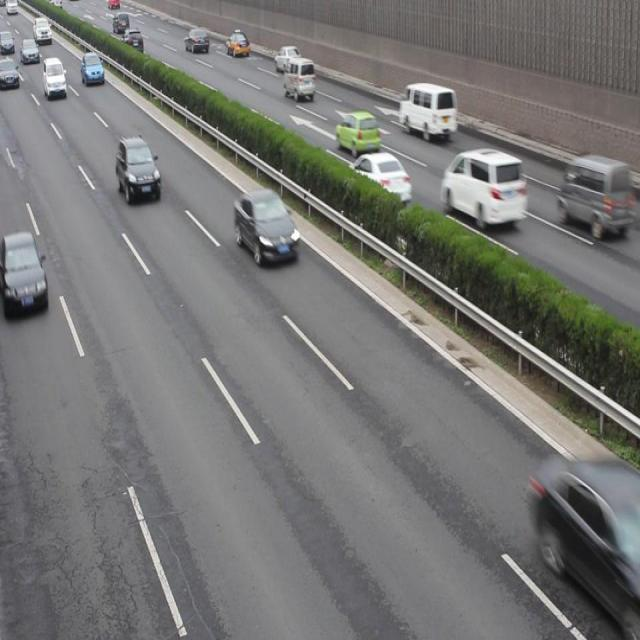car: (532, 456, 640, 628), (442, 146, 524, 229), (234, 190, 298, 266), (1, 234, 47, 314), (349, 150, 411, 204), (115, 138, 161, 203), (336, 112, 378, 156), (43, 56, 66, 98), (81, 53, 105, 84), (185, 28, 209, 54), (227, 32, 249, 58), (274, 46, 300, 68), (1, 59, 19, 90), (123, 29, 143, 54), (21, 41, 39, 63)
truck: (558, 154, 630, 230), (399, 82, 457, 138), (282, 58, 314, 100)
